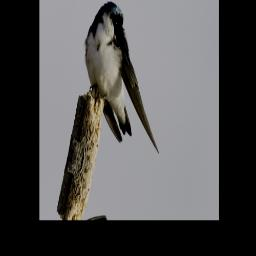Swallow: (69, 0, 181, 165)
